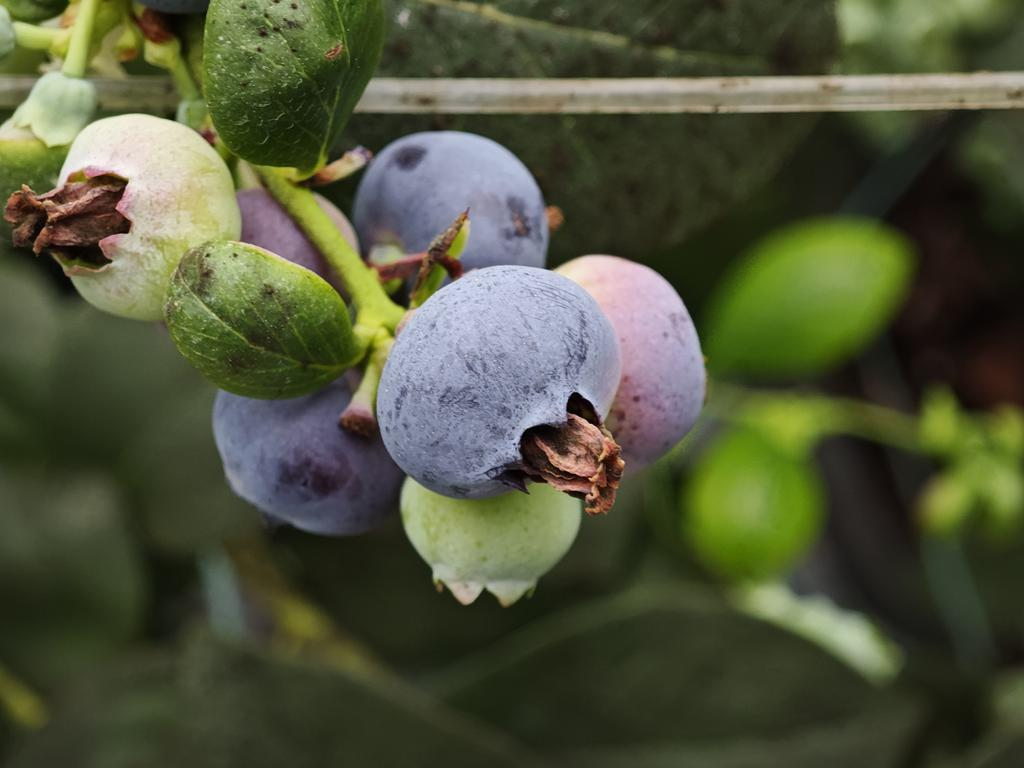RipeBlueBerry: (376, 261, 619, 497)
UnripeBlueBerry: (56, 114, 241, 316)
